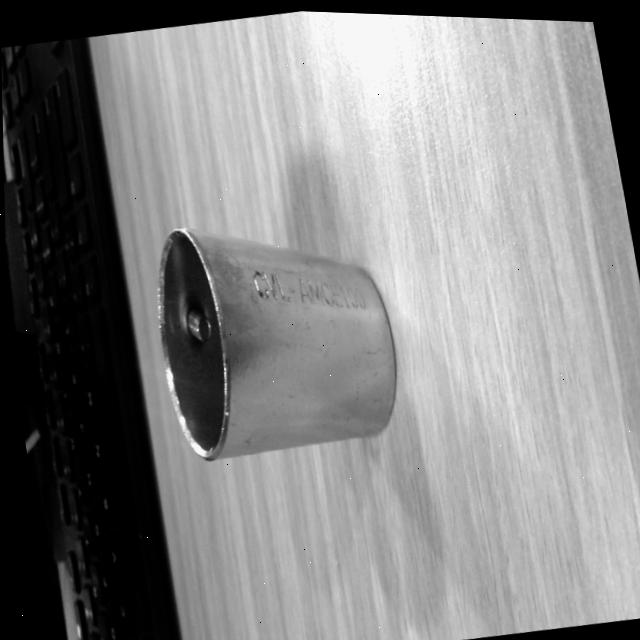Co_Nho: (146, 200, 405, 464)
